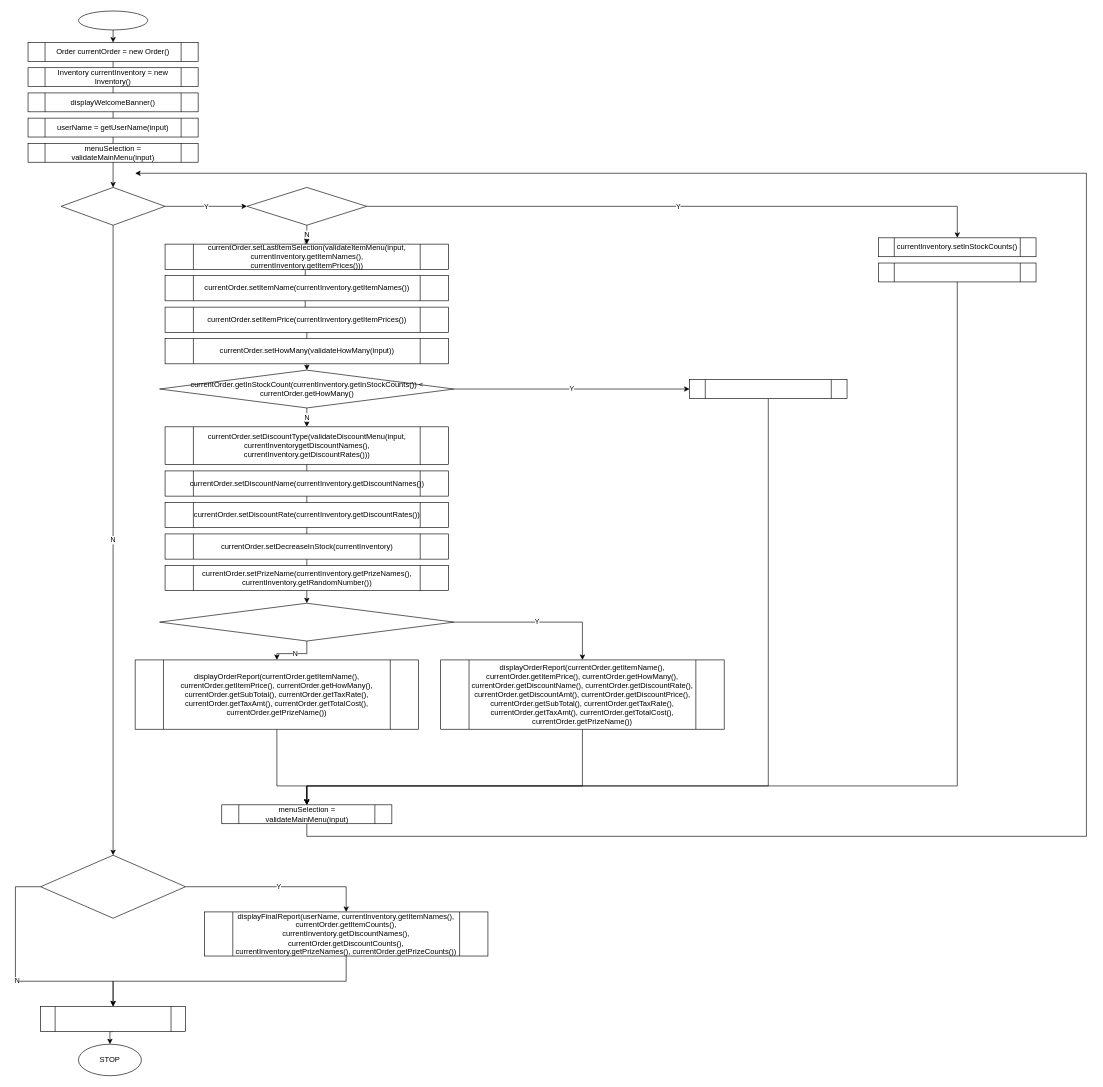
This 1103x1087 diagram has some shape labels left out. The shapes that lost their labels are listed below. From the top down, each one's centre as x and y in pixels, then its label:
point (113, 20): START
point (112, 206): menuSelection != 'Q'
point (306, 206): menuSelection == 'A'
point (957, 272): displayInventoryLoaded()
point (768, 388): displayOutOfStock()
point (306, 622): currentOrder.getDiscountRate() > 0.0
point (113, 886): currentOrder.getTotalCost() > 0.0
point (113, 1019): displayFarewellMessage()
